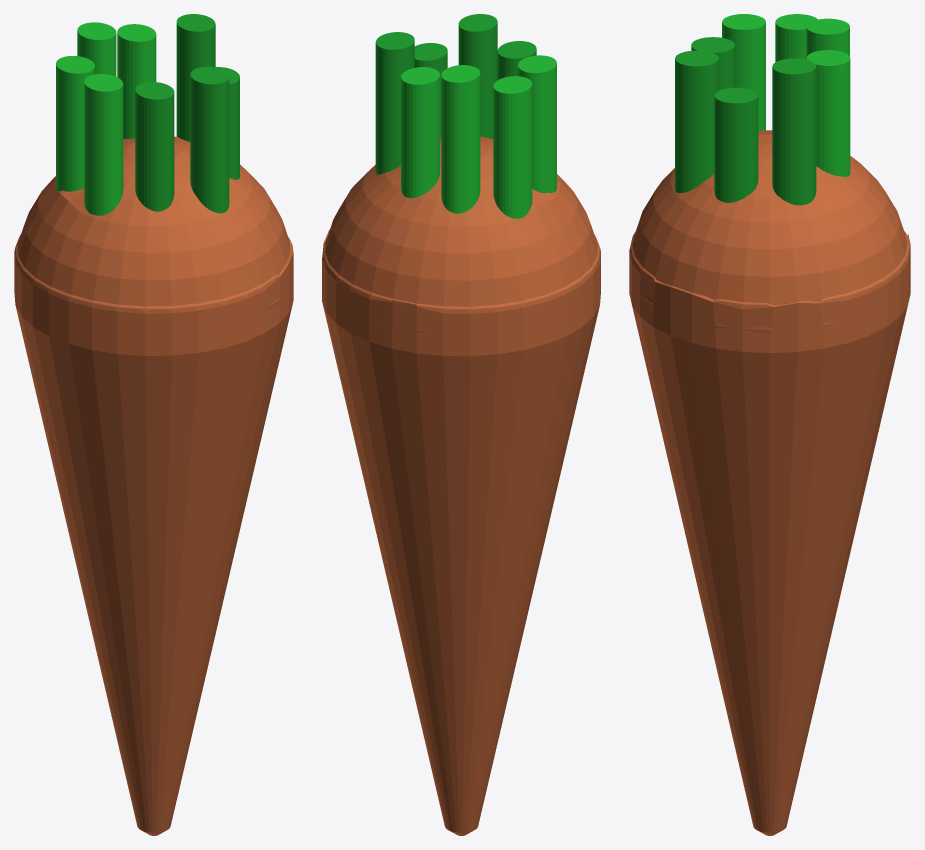
Rendered from AnushaCarrot.glb.
3 renders of one model, left to right at view 1: azimuth 30°, elevation 25°; view 2: azimuth 150°, elevation 25°; view 3: azimuth 270°, elevation 25°, orthographic.
Visible parts, largest first — view 1: cARROT, stem, Cylinder.008, stem.002, stem.003, Cylinder.007, Stem, stem.001, Cylinder.006; view 2: cARROT, stem.001, stem.003, Stem, Cylinder.007, Cylinder.008, stem, stem.002, Cylinder.006; view 3: cARROT, Cylinder.007, stem, Cylinder.006, Stem, Cylinder.008, stem.003, stem.001, stem.002.
Part boxes in pixels (left/top/right/bottom): cARROT: left=14, top=136, right=293, bottom=835; stem: left=190, top=66, right=229, bottom=213; Cylinder.008: left=84, top=74, right=123, bottom=215; stem.002: left=135, top=82, right=174, bottom=211; stem.003: left=56, top=56, right=94, bottom=191; Cylinder.007: left=176, top=14, right=215, bottom=141; Stem: left=117, top=24, right=156, bottom=138; stem.001: left=77, top=22, right=116, bottom=76; Cylinder.006: left=215, top=67, right=239, bottom=179; cARROT: left=322, top=136, right=600, bottom=835; stem.001: left=441, top=65, right=480, bottom=213; stem.003: left=493, top=76, right=532, bottom=218; Stem: left=401, top=67, right=439, bottom=198; Cylinder.007: left=375, top=32, right=414, bottom=174; Cylinder.008: left=518, top=55, right=556, bottom=193; stem: left=458, top=14, right=497, bottom=138; stem.002: left=497, top=41, right=536, bottom=79; Cylinder.006: left=414, top=43, right=447, bottom=137; cARROT: left=629, top=130, right=910, bottom=835; Cylinder.007: left=772, top=58, right=816, bottom=205; stem: left=675, top=50, right=718, bottom=193; Cylinder.006: left=714, top=87, right=758, bottom=202; Stem: left=806, top=50, right=850, bottom=176; Cylinder.008: left=722, top=14, right=765, bottom=130; stem.003: left=775, top=14, right=817, bottom=62; stem.001: left=806, top=18, right=849, bottom=59; stem.002: left=691, top=37, right=734, bottom=90.
Bounding box in the file's own units: 2 × 6.22 × 2.
